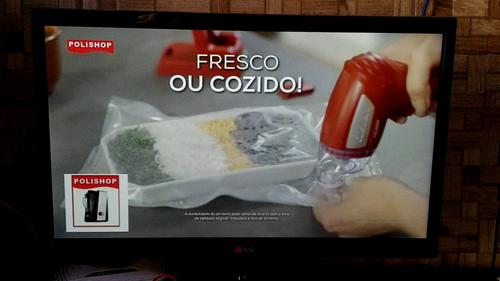Polishop #1: (64, 173, 129, 232)
